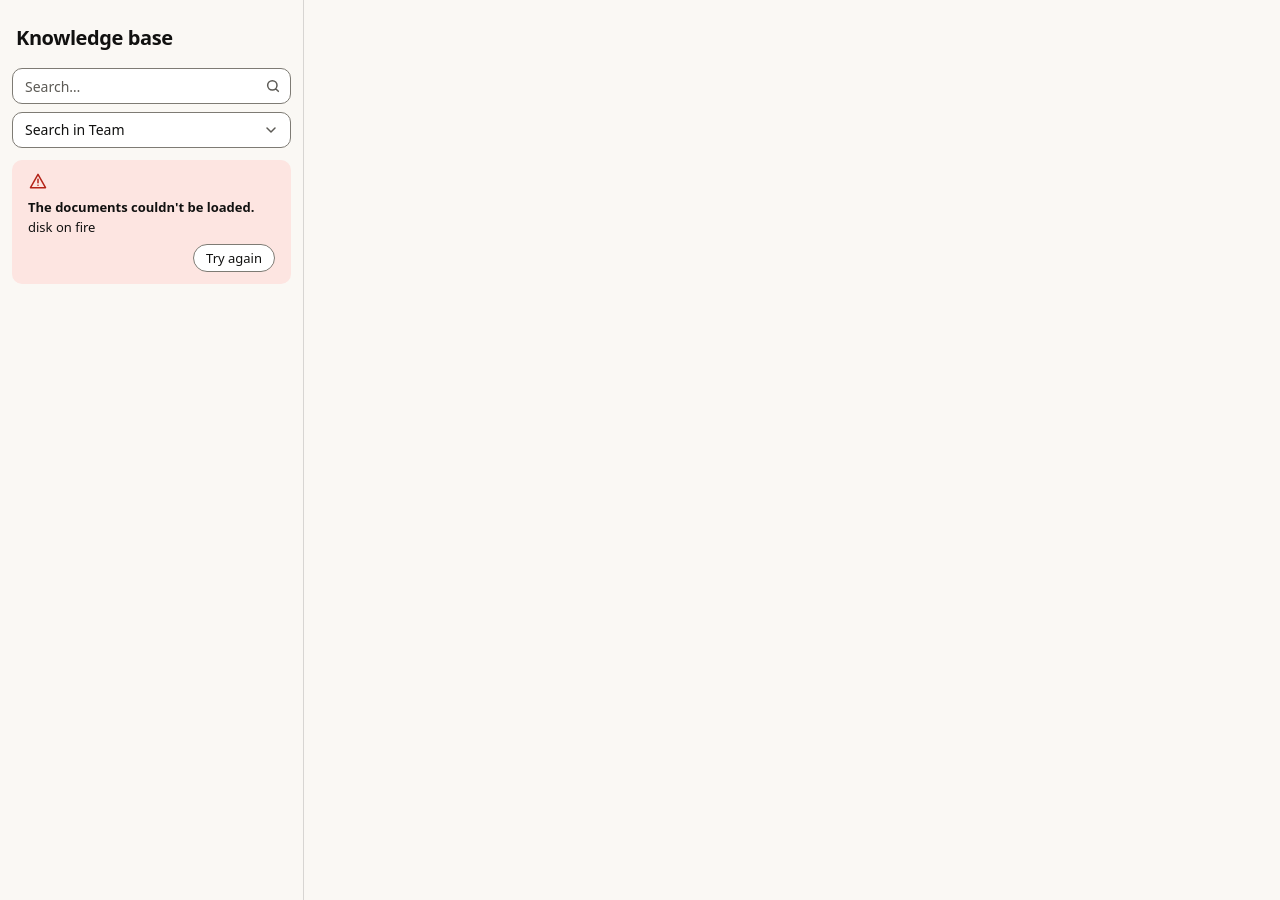
Scenario: a list that fails says what failed, apart from the spaces, and tries again
Expected: the message shows "The documents couldn't be loaded.", [28, 198, 254, 216]
Expected: the message shows "disk on fire", [28, 218, 96, 236]
Click the button "Try again" at {"x": 234, "y": 258}, box [193, 244, 275, 272]
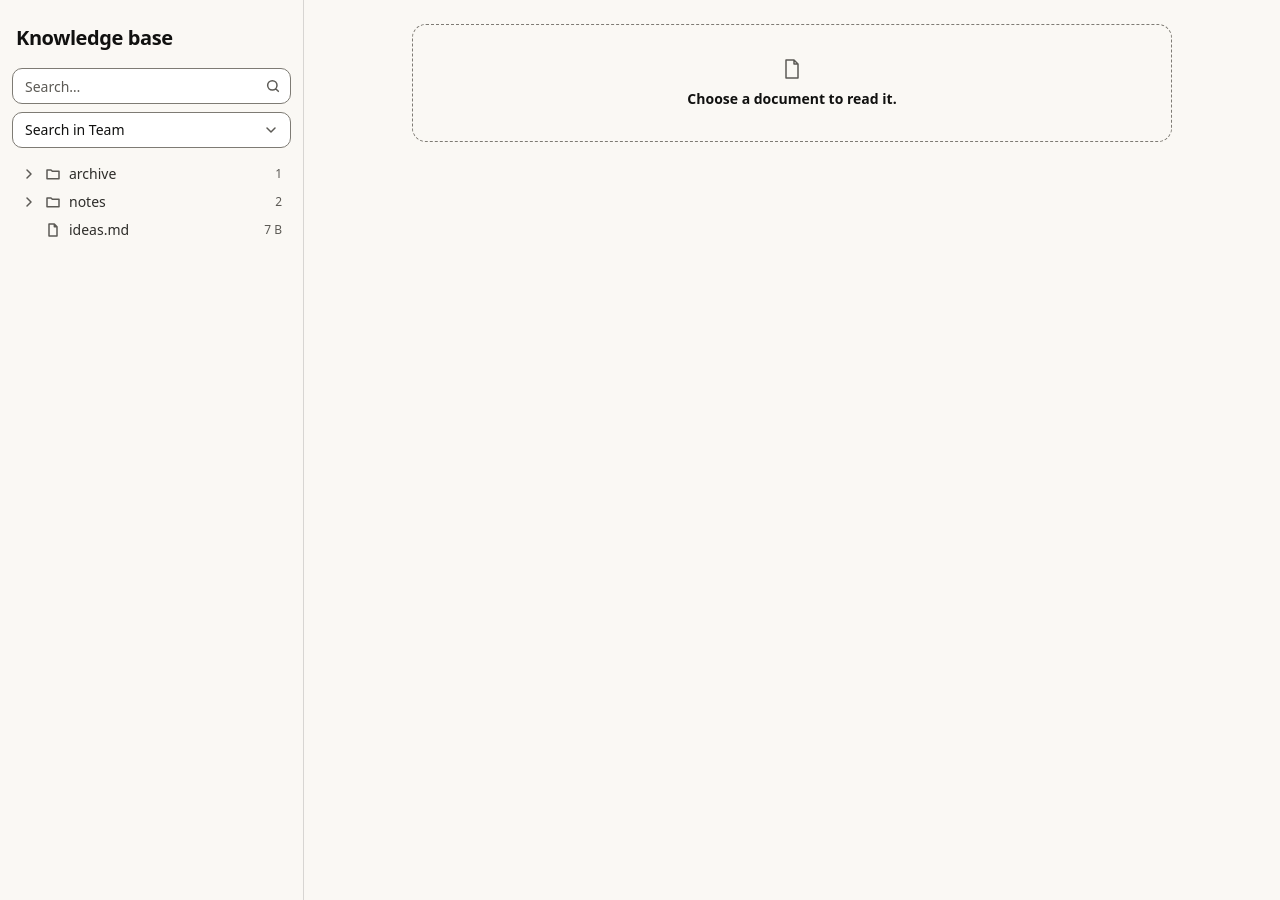
Expected: the list named "Documents" is shown, [12, 160, 291, 244]
